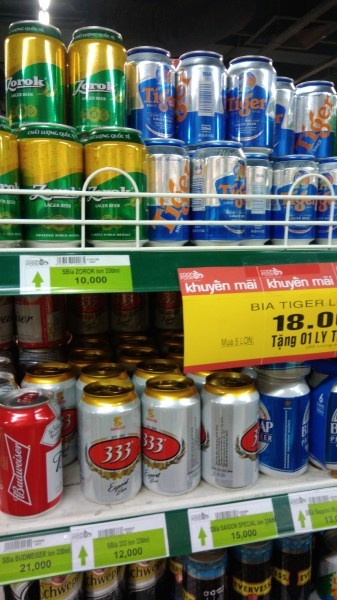333: (103, 443, 132, 464), (142, 432, 165, 454)
budweiser: (1, 430, 32, 509)
schweppes: (38, 573, 84, 600)
tiger: (148, 159, 189, 233), (296, 92, 334, 153), (227, 92, 266, 115)
zorok: (73, 78, 117, 97), (5, 74, 44, 95)
